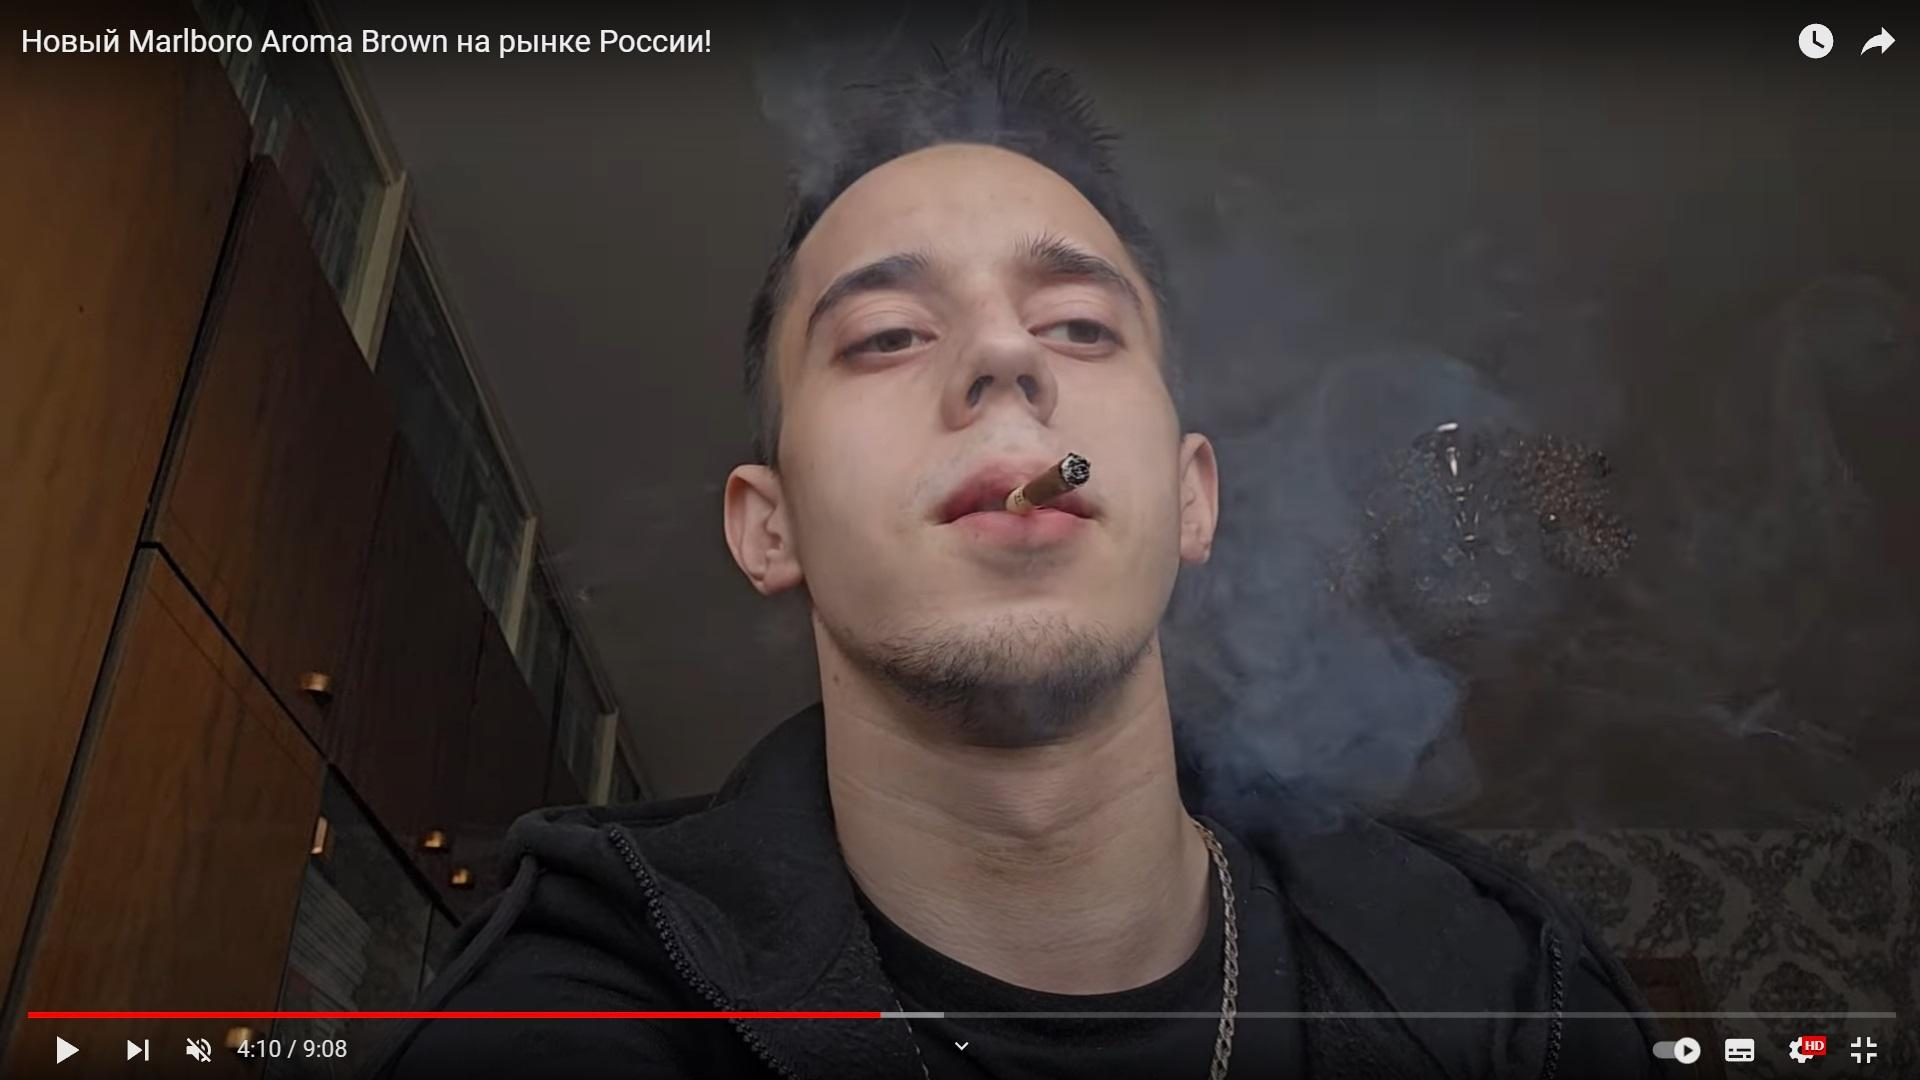cigarette: (1005, 454, 1092, 514)
